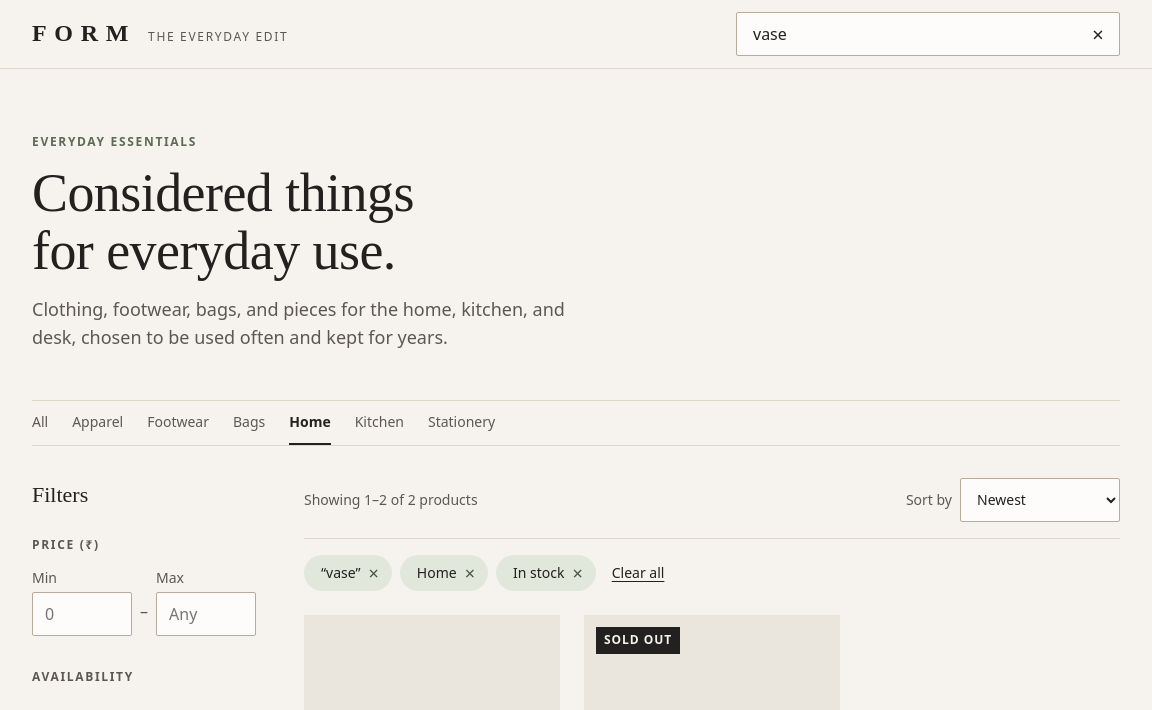
the catalog page › removes one filter with its chip, and all of them with "Clear all"
The image size is (1152, 710).
Click the button with aria-label "Remove filter: Home" at (444, 573), box [400,555,488,591]
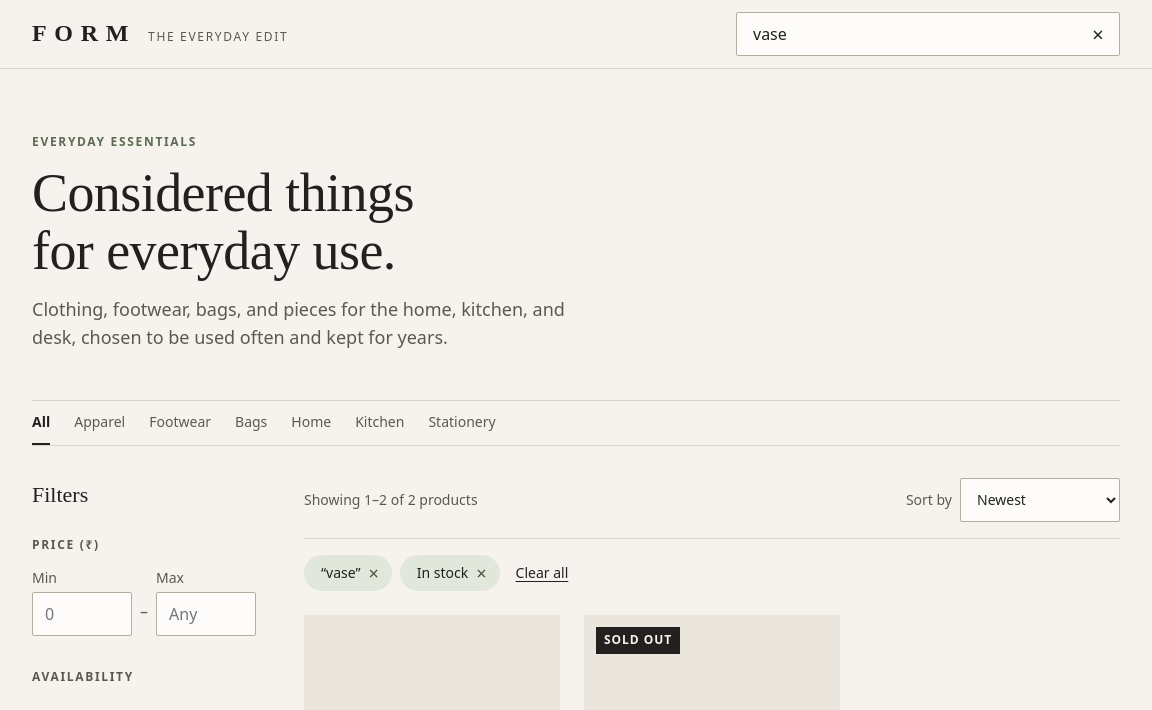
Click the button "Clear all" at (542, 573), box [516,558,568,588]
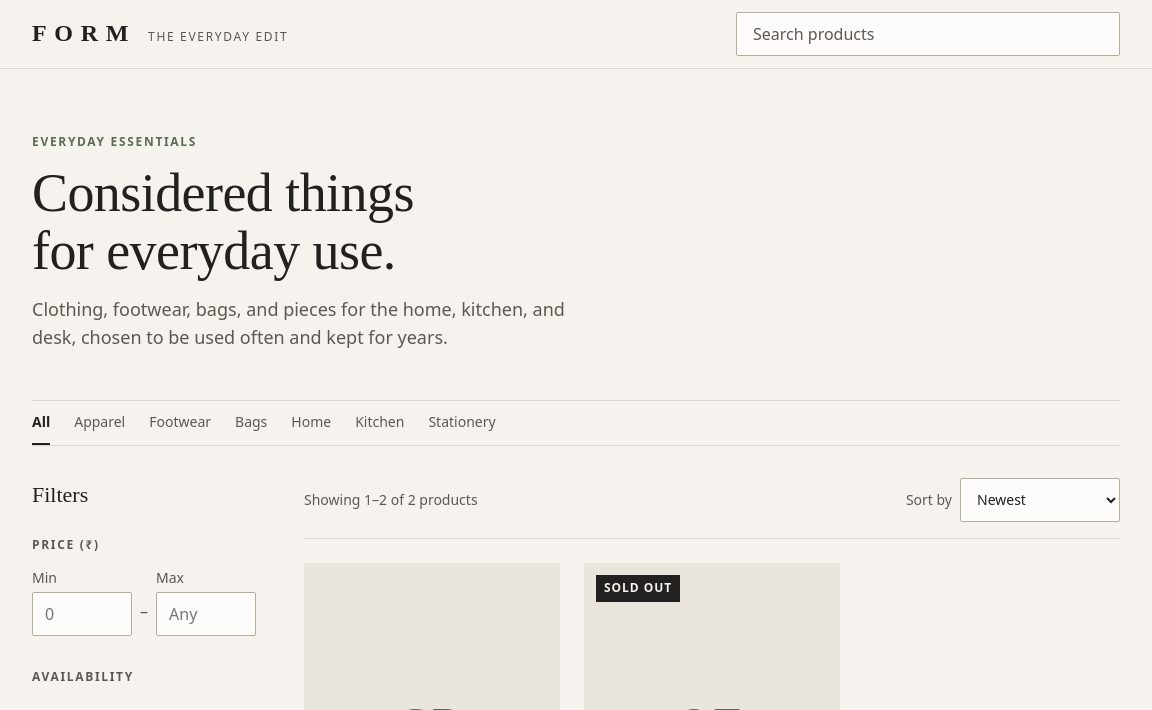
Now the search field labelled "Search products" is empty, box [736,12,1120,56]
